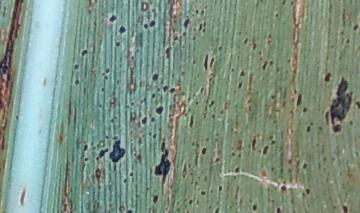tarspot: (330, 78, 352, 123), (155, 141, 171, 182), (110, 139, 126, 163), (98, 148, 109, 159), (295, 93, 303, 107), (333, 122, 342, 134), (203, 54, 209, 71), (108, 14, 118, 24), (324, 70, 332, 82), (251, 134, 257, 150), (324, 109, 330, 124), (208, 56, 215, 68), (188, 114, 194, 128), (155, 105, 164, 114), (118, 25, 126, 34), (148, 18, 156, 27), (140, 116, 148, 125), (183, 18, 190, 28), (342, 203, 349, 213), (166, 47, 172, 58), (262, 60, 268, 71), (238, 69, 246, 77), (262, 145, 269, 154), (81, 49, 88, 57), (169, 85, 176, 93), (304, 187, 311, 195), (199, 188, 206, 196), (207, 100, 215, 107), (301, 162, 308, 170), (270, 93, 277, 101), (152, 72, 158, 81), (197, 22, 203, 31), (153, 194, 159, 203), (73, 79, 80, 86), (275, 206, 282, 213), (280, 185, 287, 192), (233, 166, 240, 173), (229, 150, 236, 157), (100, 86, 106, 94), (353, 24, 359, 32), (252, 203, 258, 211), (345, 37, 351, 45), (199, 86, 205, 94), (74, 63, 79, 72), (355, 100, 360, 109), (115, 40, 121, 47), (104, 67, 110, 74), (162, 84, 168, 91), (150, 116, 156, 123), (122, 177, 128, 184), (214, 206, 220, 213), (194, 7, 200, 14), (214, 156, 220, 163), (129, 54, 136, 60), (306, 125, 311, 133), (202, 146, 207, 154), (243, 37, 248, 45), (302, 107, 308, 113), (83, 156, 89, 162), (128, 171, 134, 177), (172, 35, 178, 41), (274, 12, 280, 18), (143, 22, 148, 29), (237, 81, 242, 88), (269, 59, 274, 66), (150, 93, 157, 98), (126, 208, 133, 213), (83, 144, 88, 151), (217, 44, 222, 51), (189, 198, 194, 204), (252, 44, 257, 50), (152, 133, 157, 139), (182, 31, 187, 37), (211, 113, 216, 119), (218, 184, 222, 191), (282, 1, 287, 6), (104, 74, 108, 80), (203, 21, 207, 27), (271, 139, 275, 145), (105, 135, 109, 140), (201, 9, 204, 15)
